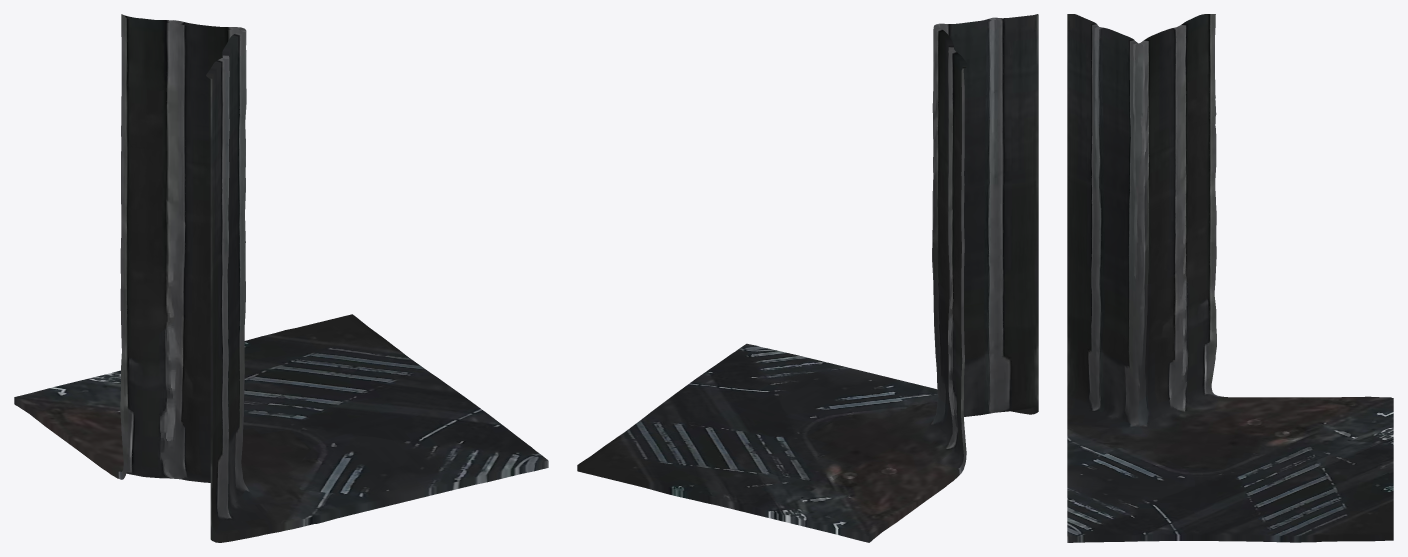
File: z20-167779-405232-h0-yup-uvflip-v3-world.glb
3 renders of one model, left to right at view 1: azimuth 30°, elevation 25°; view 2: azimuth 150°, elevation 25°; view 3: azimuth 270°, elevation 25°, orthographic. The views are drawn at different scales.
Size of the model in its own units: 30.16 by 40.12 by 30.32.
Materials: 1 (1 with a texture image).
